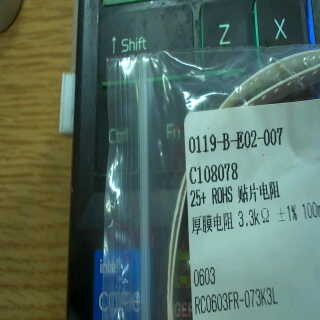3.3kO: (232, 205, 276, 240)
